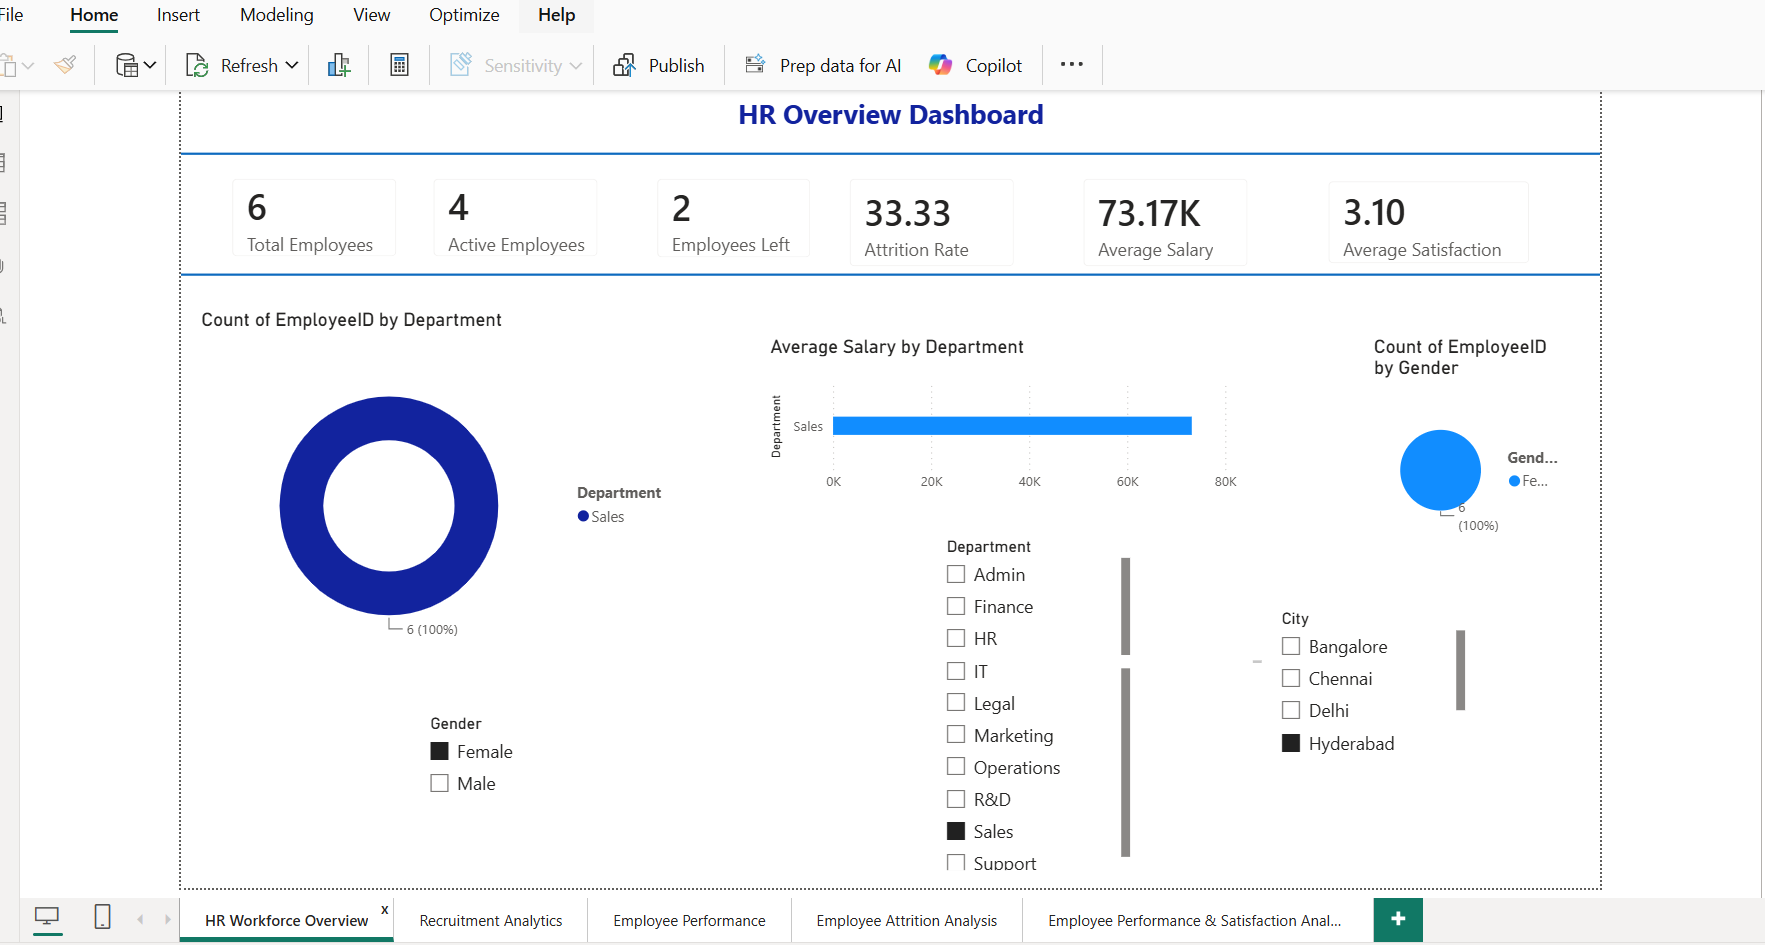

The page's visual inventory and layout, read from the dashboard file:
{"tool":"powerbi","page":{"name":"HR Workforce Overview","canvas":[1280,720],"ordinal":0},"visuals":[{"type":"cardVisual","fields":{"Data":["Employees.Total Employees"]},"box":[28.8,63.1,182.5,104.3],"z":0},{"type":"cardVisual","fields":{"Data":["Employees.Average Satisfaction"]},"box":[1018.2,65.9,215.4,108.4],"z":1000},{"type":"cardVisual","fields":{"Data":["Employees.Active Employees"]},"box":[211.3,63.1,182.5,104.3],"z":2000},{"type":"cardVisual","fields":{"Data":["Employees.Attrition Rate"]},"box":[585.9,63.1,182.5,113.9],"z":3000},{"type":"cardVisual","fields":{"Data":["Employees.Employees Left"]},"box":[413,63.1,172.9,105.7],"z":4000},{"type":"cardVisual","fields":{"Data":["Employees.Average Salary"]},"box":[797.3,63.1,182.5,113.9],"z":5000},{"type":"donutChart","fields":{"Category":["Employees.Department"],"Y":["CountNonNull(Employees.EmployeeID)"]},"box":[13.5,196.9,441.4,325.3],"z":6000},{"type":"clusteredBarChart","fields":{"Category":["Employees.Department"],"Y":["Employees.Average Salary"]},"box":[525.8,221.3,430.4,150.4],"z":7000},{"type":"pieChart","fields":{"Category":["Employees.Gender"],"Y":["CountNonNull(Employees.EmployeeID)"]},"box":[1071.2,221.3,183.4,194.4],"z":8000},{"type":"slicer","fields":{"Values":["Employees.Department"]},"box":[677.4,397.4,183.4,310.6],"z":9000},{"type":"slicer","fields":{"Values":["Employees.Gender"]},"box":[211.6,557.6,215,150],"z":10000},{"type":"slicer","fields":{"Values":["Employees.City"]},"box":[979.2,463.3,183,150],"z":11000},{"type":"textbox","box":[0,0,1280.3,42.8],"z":12000},{"type":"textbox","box":[797.3,509.9,182.2,12.2],"z":13000},{"type":"shape","box":[0,0,1280.3,114.9],"z":14000},{"type":"shape","box":[0,91.7,1280.3,150.4],"z":15000}]}

Visuals, with their boxes on the page's 1280x720 design canvas (x1, y1, x2, y2). These are canvas units, not pixel positions in the 1765x945 screenshot, which may show the page scaled, cropped or inside an application window:
cardVisual - Employees.Total Employees: bbox(29, 63, 211, 167)
cardVisual - Employees.Average Satisfaction: bbox(1018, 66, 1234, 174)
cardVisual - Employees.Active Employees: bbox(211, 63, 394, 167)
cardVisual - Employees.Attrition Rate: bbox(586, 63, 768, 177)
cardVisual - Employees.Employees Left: bbox(413, 63, 586, 169)
cardVisual - Employees.Average Salary: bbox(797, 63, 980, 177)
donutChart - Employees.Department x CountNonNull(Employees.EmployeeID): bbox(14, 197, 455, 522)
clusteredBarChart - Employees.Department x Employees.Average Salary: bbox(526, 221, 956, 372)
pieChart - Employees.Gender x CountNonNull(Employees.EmployeeID): bbox(1071, 221, 1255, 416)
slicer - Employees.Department: bbox(677, 397, 861, 708)
slicer - Employees.Gender: bbox(212, 558, 427, 708)
slicer - Employees.City: bbox(979, 463, 1162, 613)
textbox: bbox(0, 0, 1280, 43)
textbox: bbox(797, 510, 980, 522)
shape: bbox(0, 0, 1280, 115)
shape: bbox(0, 92, 1280, 242)
